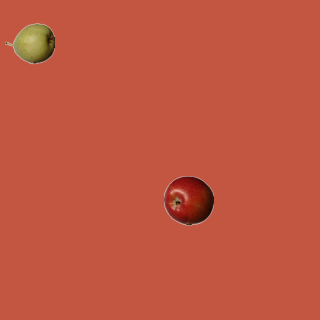Apple Braeburn: (163, 175, 213, 225)
Pear: (4, 18, 54, 68)
